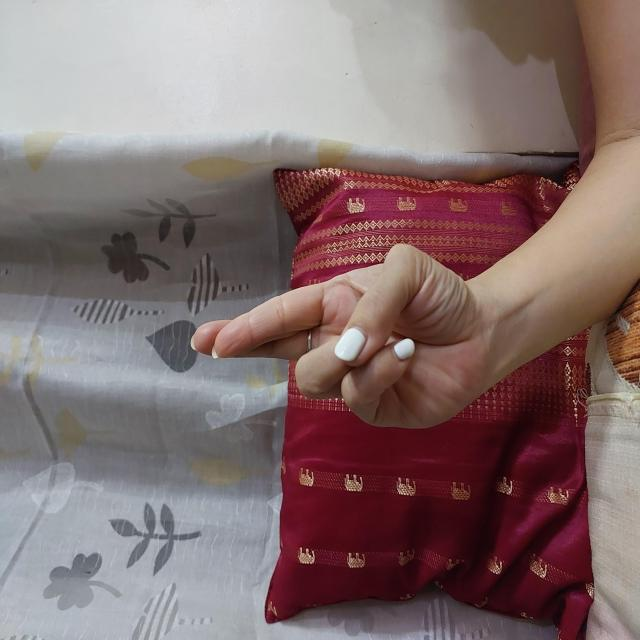R: (208, 187, 401, 490)
